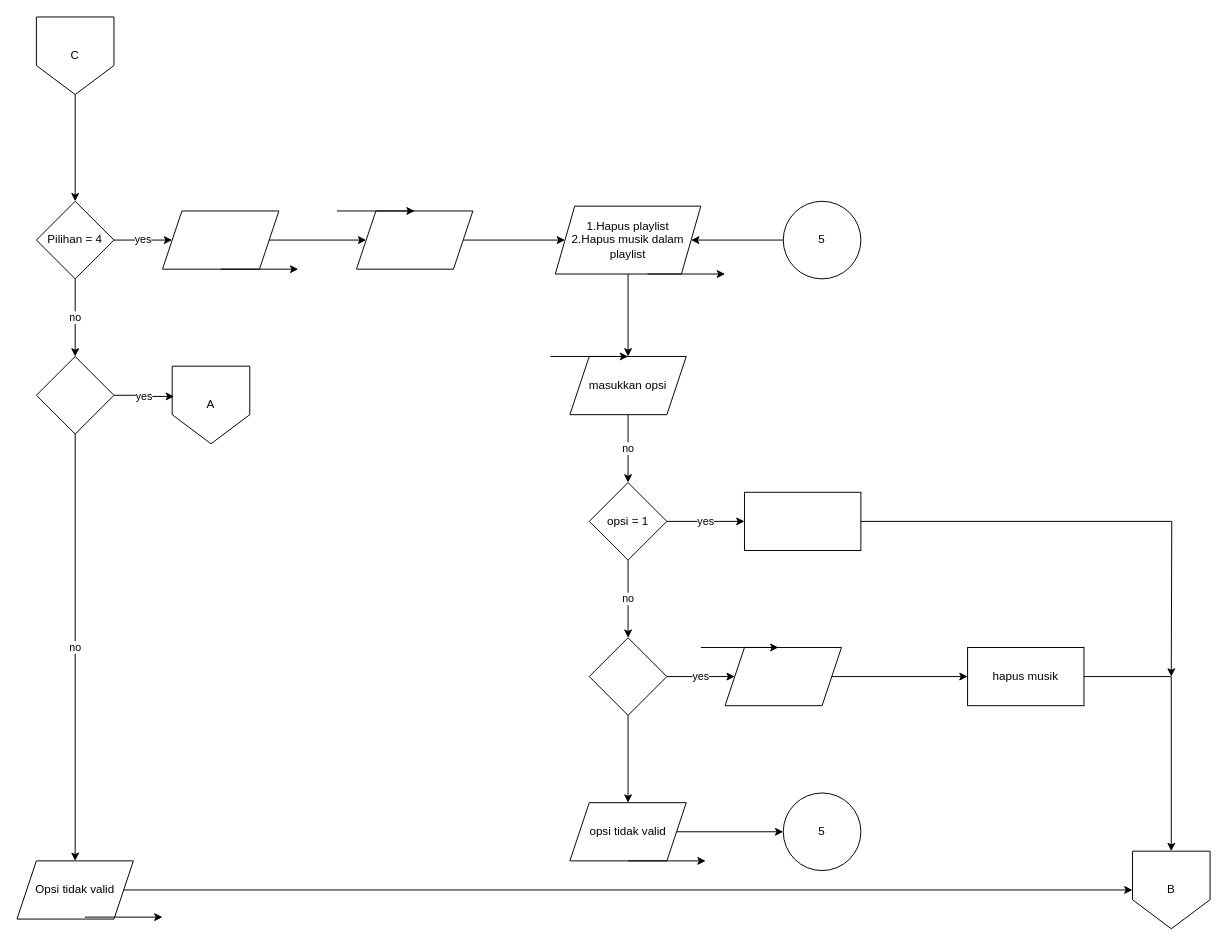
The diagram is 1227 pixels wide and 946 high, and some of its shapes have lost their labels. Each missing label, with the centre of its shape:
hapus playlist: (x=802, y=520)
opsi = 2: (x=627, y=676)
pilih musik: (x=782, y=676)
Pilih playlist: (x=414, y=239)
Pilihan = 0: (x=74, y=395)
Tampilkan seluruh playlist: (x=220, y=239)
